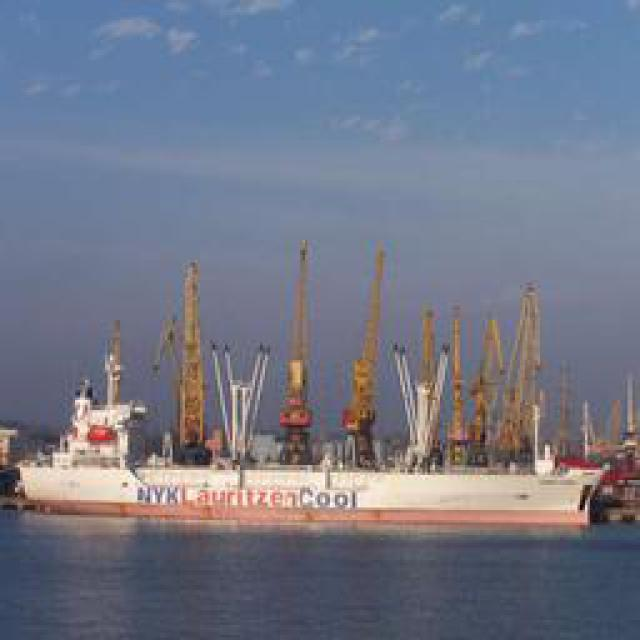Ship: (16, 403, 614, 527)
